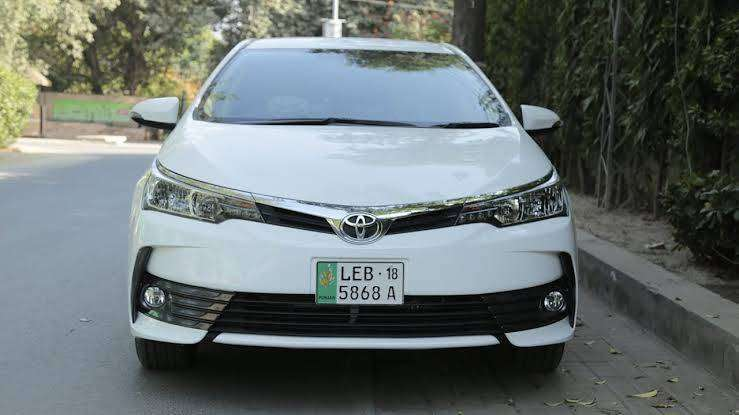License-Plate: (313, 256, 407, 306)
